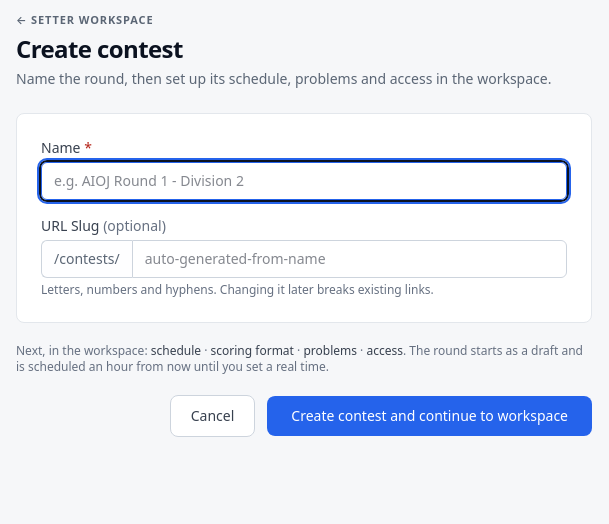
Test case: surfaces a create failure instead of navigating
Type "My Round" into the field named "Title".
click(304, 180); type("My Round")  # box [41, 162, 567, 200]
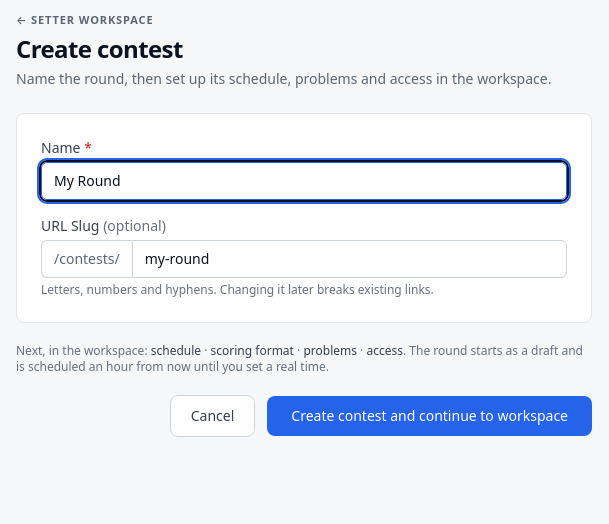
Click the button "Create contest and continue to workspace".
click(430, 416)  # box [267, 396, 592, 436]
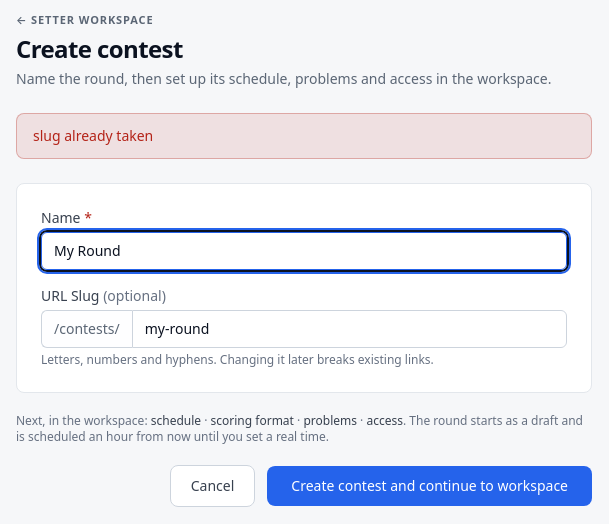
Result: the message reads "slug already taken" at [33, 126, 153, 144]
